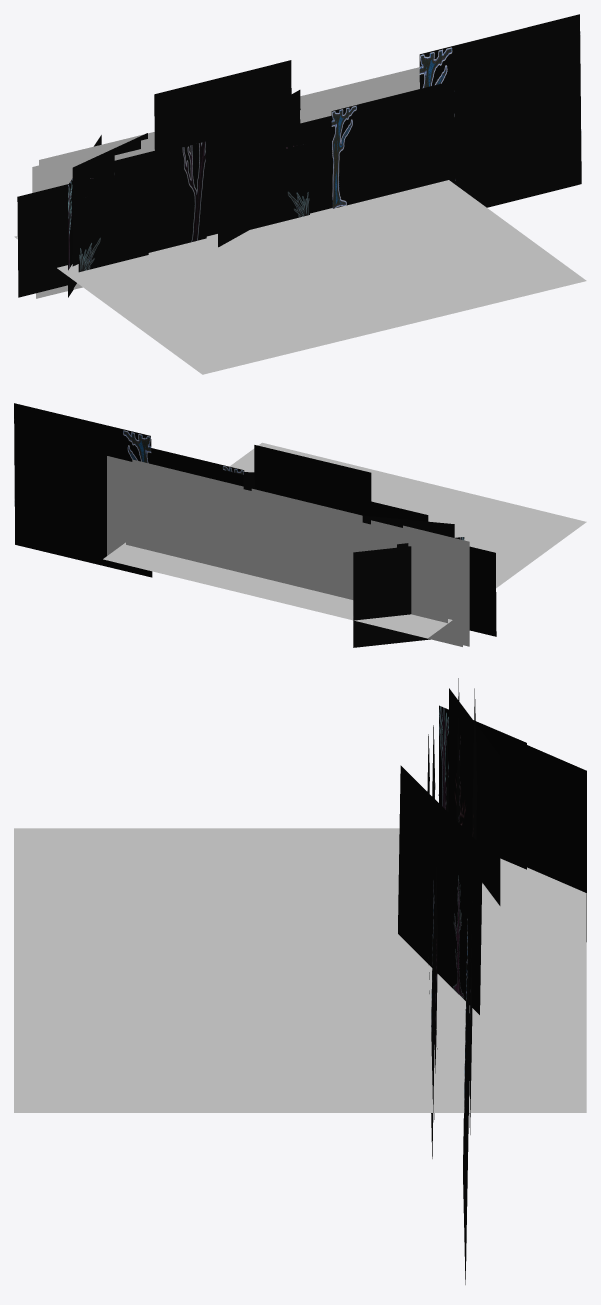
The picture shows the model from 3 angles, top to bottom: view 1: azimuth 30°, elevation 25°; view 2: azimuth 150°, elevation 25°; view 3: azimuth 270°, elevation 25°; orthographic projection. The views are drawn at different scales.
Visible parts, largest first — view 1: 地板, 地板 1, 樹 1.014, 樹 1.013, 樹 1.007, 樹 1.008, 樹 1.002, 樹 1, 樹 1.012, 樹 1.011, 樹 1.006, 矮矮樹 1 (+10 smaller); view 2: 樹 1.014, 背景牆 1, 地板 1, 背景牆, 地板, 樹 1.007, 藍色樹 1, 一片樹（中）, 樹 1, 一片樹（中） 2, 一片樹（前） 2, 樹 1.013 (+6 smaller); view 3: 地板, 地板 1, 樹 1.012, 藍色樹 1, 矮矮樹 1, 藍色樹 2, 樹 1.014, 樹 1.013.
Part boxes in pixels (x1,y1,x2,y2): 地板: (258, 180, 586, 327); 地板 1: (14, 228, 394, 374); 樹 1.014: (419, 14, 581, 207); 樹 1.013: (331, 80, 455, 208); 樹 1.007: (154, 60, 291, 159); 樹 1.008: (114, 141, 206, 252); 樹 1.002: (78, 181, 148, 272); 樹 1: (17, 177, 93, 297); 樹 1.012: (216, 90, 300, 247); 樹 1.011: (244, 143, 310, 229); 樹 1.006: (255, 116, 332, 172); 矮矮樹 1: (72, 133, 147, 266); 樹 1.014: (14, 403, 152, 577); 背景牆 1: (126, 465, 286, 583); 地板 1: (265, 482, 586, 638); 背景牆: (287, 504, 447, 625); 地板: (103, 442, 423, 598); 樹 1.007: (254, 445, 371, 516); 藍色樹 1: (353, 546, 430, 647); 一片樹（中）: (107, 456, 245, 555); 樹 1: (469, 546, 496, 636); 一片樹（中） 2: (323, 509, 462, 646); 一片樹（前） 2: (355, 514, 469, 646); 樹 1.013: (151, 448, 244, 474); 地板: (14, 970, 586, 1112); 地板 1: (14, 828, 586, 970); 樹 1.012: (398, 765, 482, 1014); 藍色樹 1: (527, 745, 586, 941); 矮矮樹 1: (449, 688, 500, 905); 藍色樹 2: (439, 705, 526, 869); 樹 1.014: (463, 918, 470, 1284); 樹 1.013: (431, 880, 435, 1158).
Size of the model in its own units: 3688 by 2128 by 1190.
